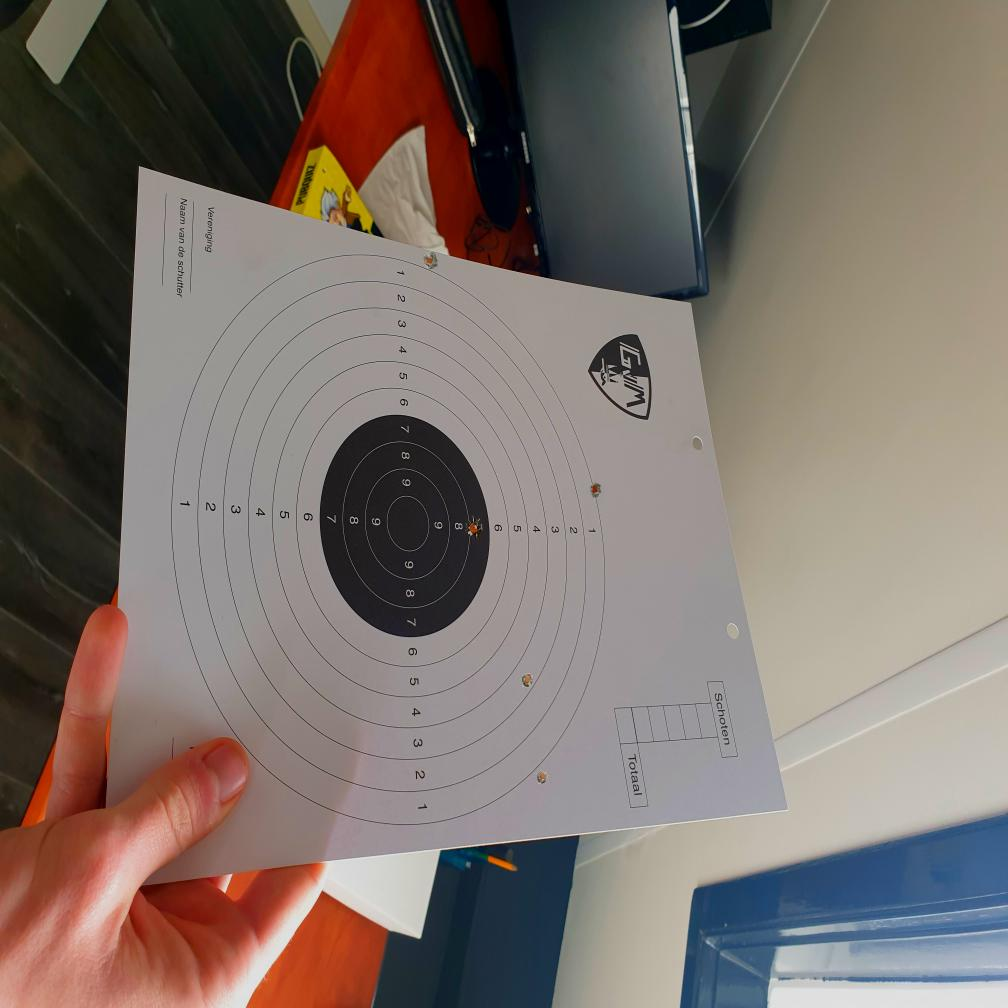0: (422, 251, 438, 270), (590, 482, 602, 499), (536, 769, 548, 785)
3: (522, 672, 534, 689)
8: (466, 515, 482, 540)
Target: (171, 255, 607, 827)
black_contour: (320, 415, 490, 637)
